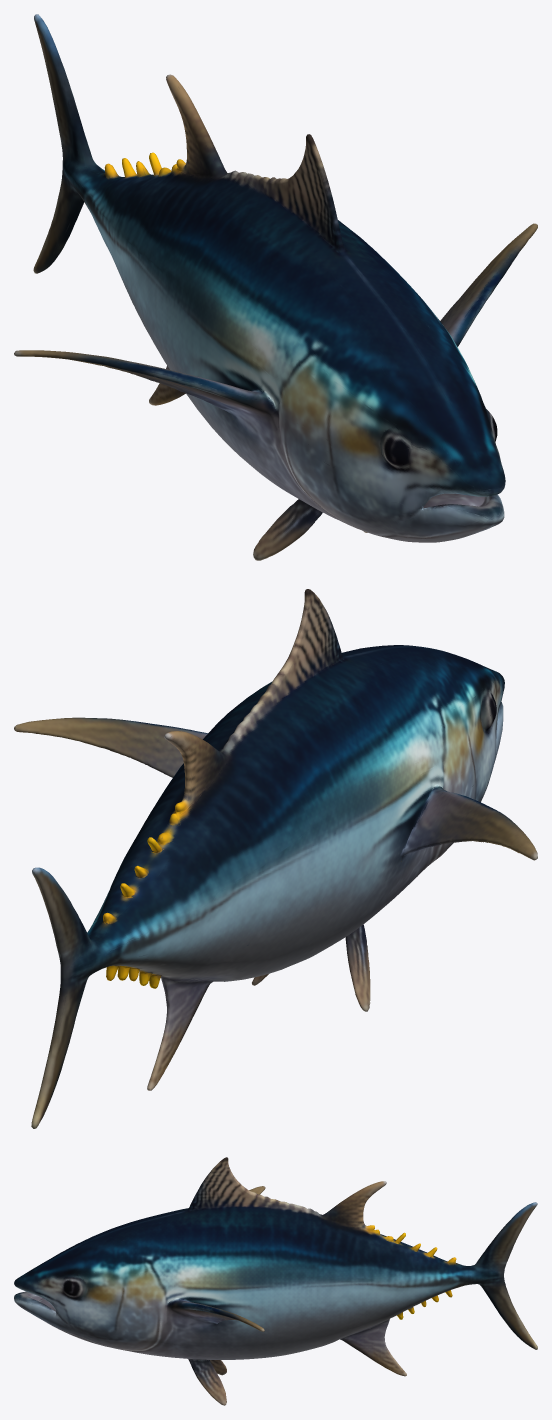
The model's file is 12_bluefin_tuna.glb.
3 renders of one model, top to bottom at view 1: azimuth 30°, elevation 25°; view 2: azimuth 150°, elevation 25°; view 3: azimuth 270°, elevation 25°, orthographic. The views are drawn at different scales.
Visible parts, largest first — view 1: world; view 2: world; view 3: world.
Part boxes in pixels (<box>): world: <box>14,14,537,560</box>; world: <box>14,589,537,1128</box>; world: <box>14,1157,537,1405</box>.
Size of the model in its own units: 0.6572 by 0.4927 by 1.
1 material, 1 textured.
